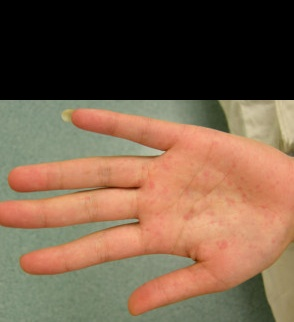SJS-TEN: (133, 123, 294, 278)
